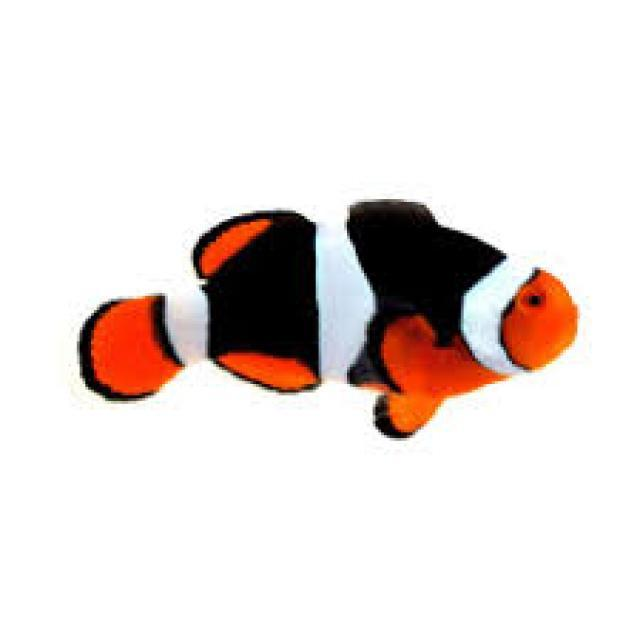ClownFish: (75, 198, 588, 443)
